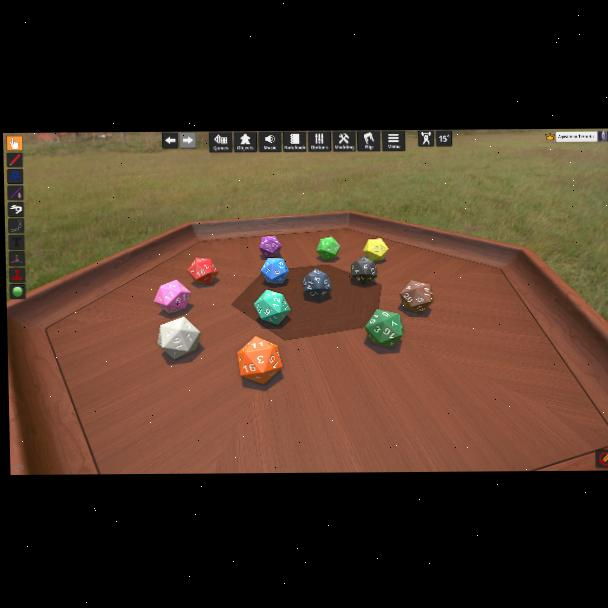d20: (237, 335, 285, 383), (157, 317, 202, 360), (363, 311, 402, 348), (253, 289, 293, 325), (153, 280, 192, 314), (400, 281, 432, 313), (188, 258, 218, 285), (260, 257, 288, 285), (303, 269, 330, 298), (351, 257, 377, 286), (362, 239, 389, 262), (316, 237, 339, 260), (260, 236, 283, 258)
